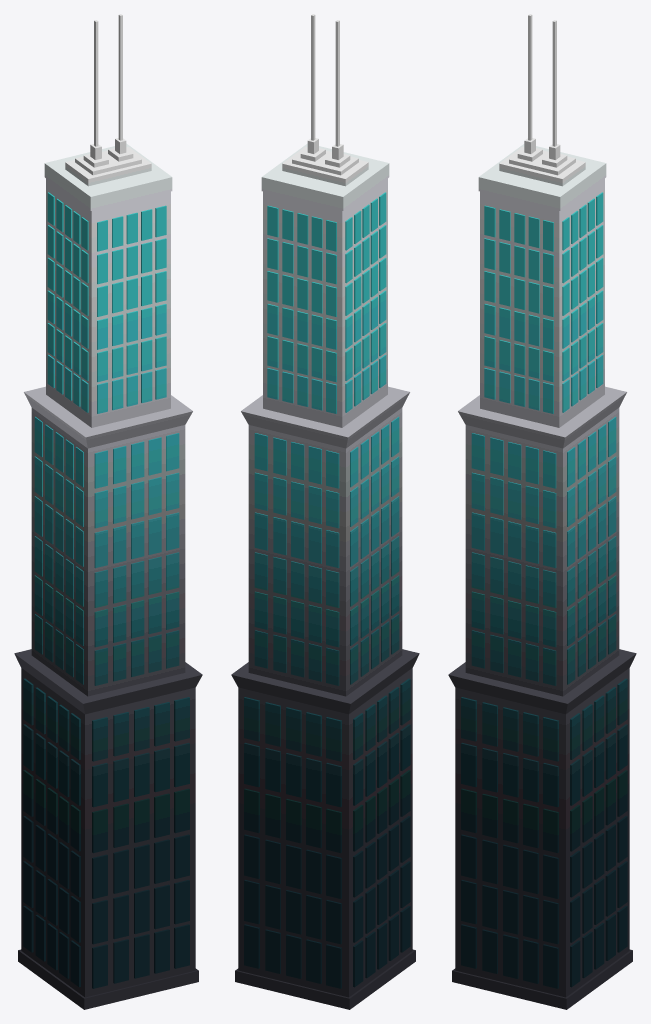
Rendered from SM_Building_Skyscraper.fbx.
The picture shows the model from 3 angles, left to right: view 1: azimuth 30°, elevation 25°; view 2: azimuth 150°, elevation 25°; view 3: azimuth 330°, elevation 25°; orthographic projection.
Visible parts, largest first — view 1: Skyscraper; view 2: Skyscraper; view 3: Skyscraper.
Part boxes in pixels (left/top/right/bottom): Skyscraper: left=14, top=14, right=202, bottom=1009; Skyscraper: left=231, top=14, right=419, bottom=1009; Skyscraper: left=448, top=14, right=636, bottom=1009.
Bounding box in the file's own units: 9.16 × 69.79 × 9.16.
